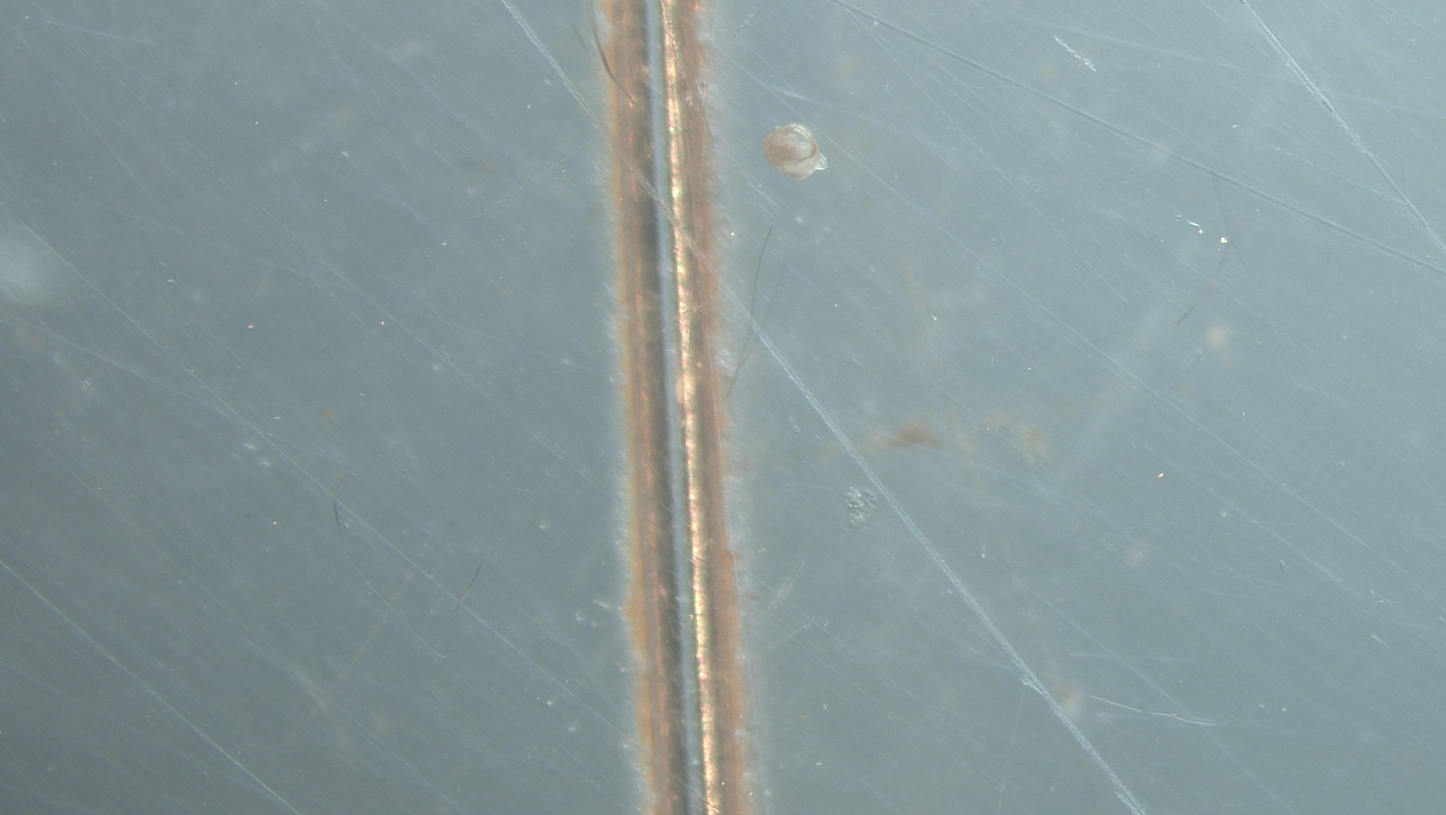live: (763, 124, 828, 179)
